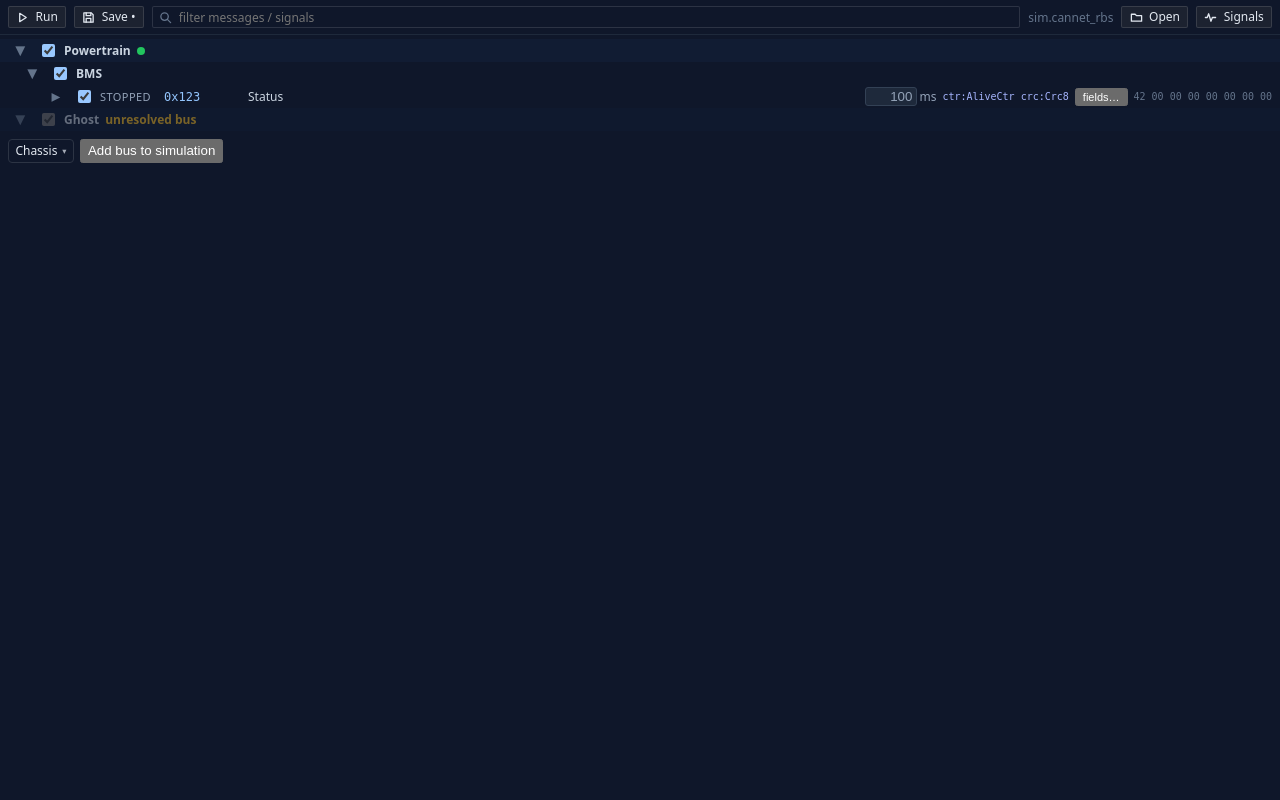
Test: RbsPanel (thin view over the host RBS model) › opens the editor on the message's DBC-declared counter and CRC
Click the button "fields…": (1101, 96) [1075,88,1128,106]
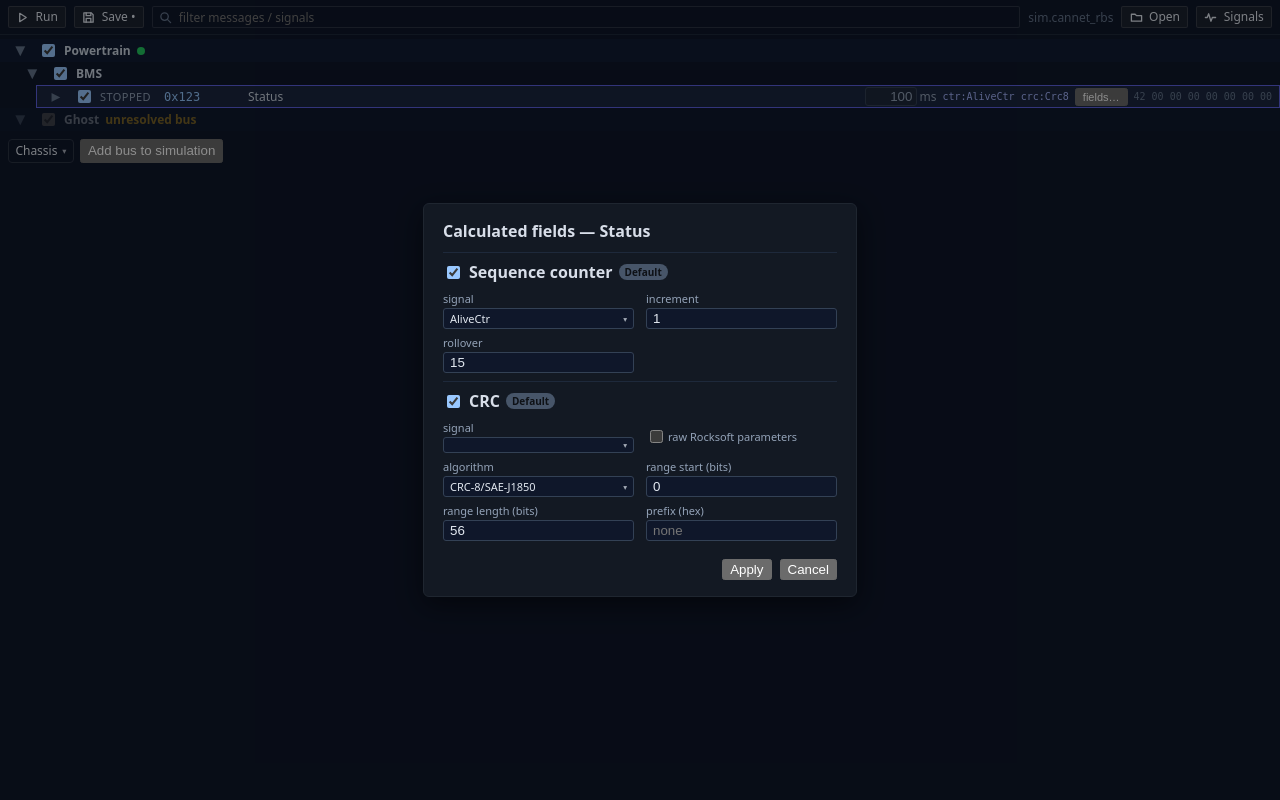
expect the checkbox named "counter configured" is checked: met, box [447,266,460,278]
expect the checkbox named "crc configured" is checked: met, box [447,394,460,408]
expect the dropdown named "counter signal" holds "AliveCtr": met, box [443,308,634,329]
